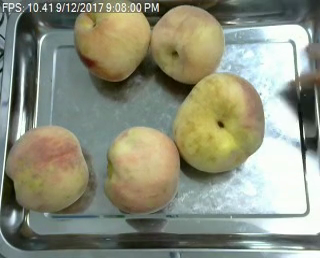Peach: (173, 72, 265, 172), (8, 125, 90, 214), (103, 125, 180, 214), (74, 0, 151, 81), (149, 4, 225, 84)
